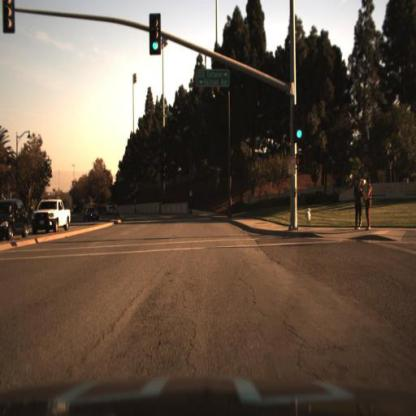car: (29, 196, 72, 236), (32, 199, 72, 237), (1, 197, 30, 242), (86, 205, 103, 224), (107, 202, 120, 218)
pedestrian: (354, 177, 364, 230), (365, 176, 374, 231)
trafficLight-Green: (151, 14, 162, 55), (295, 106, 306, 144)
